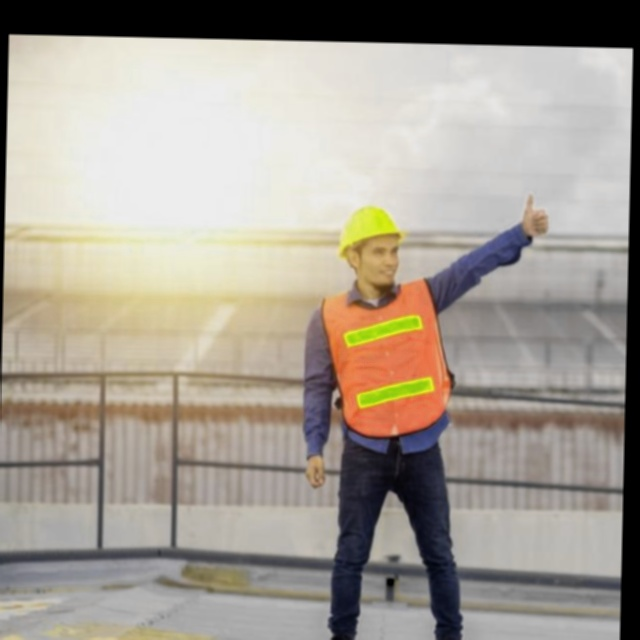Con_Casco: (337, 202, 409, 288)
Con_Chaleco: (316, 278, 450, 437)
